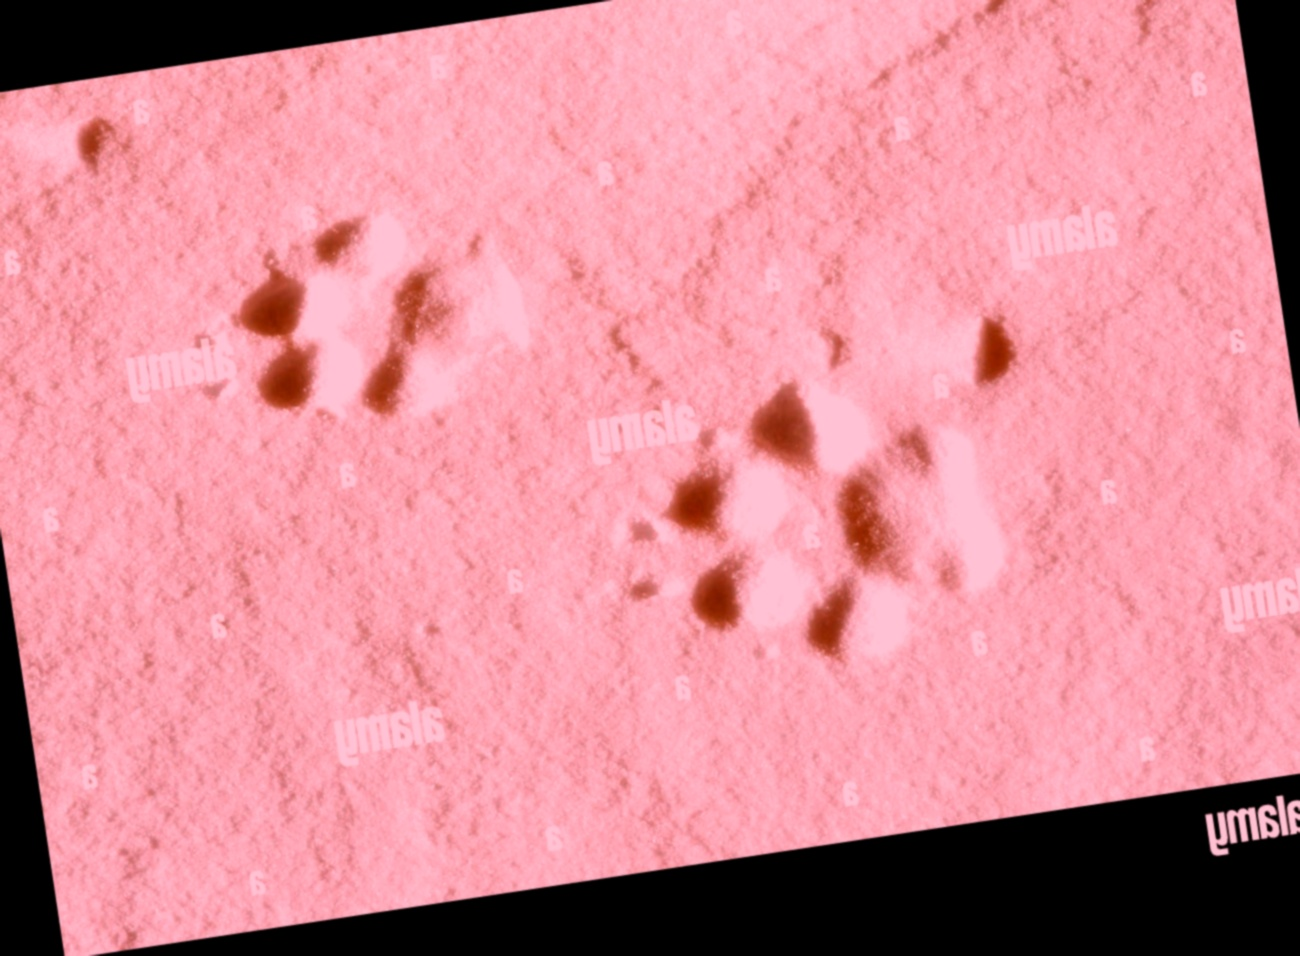loup: (581, 300, 1068, 740), (178, 169, 553, 462)
